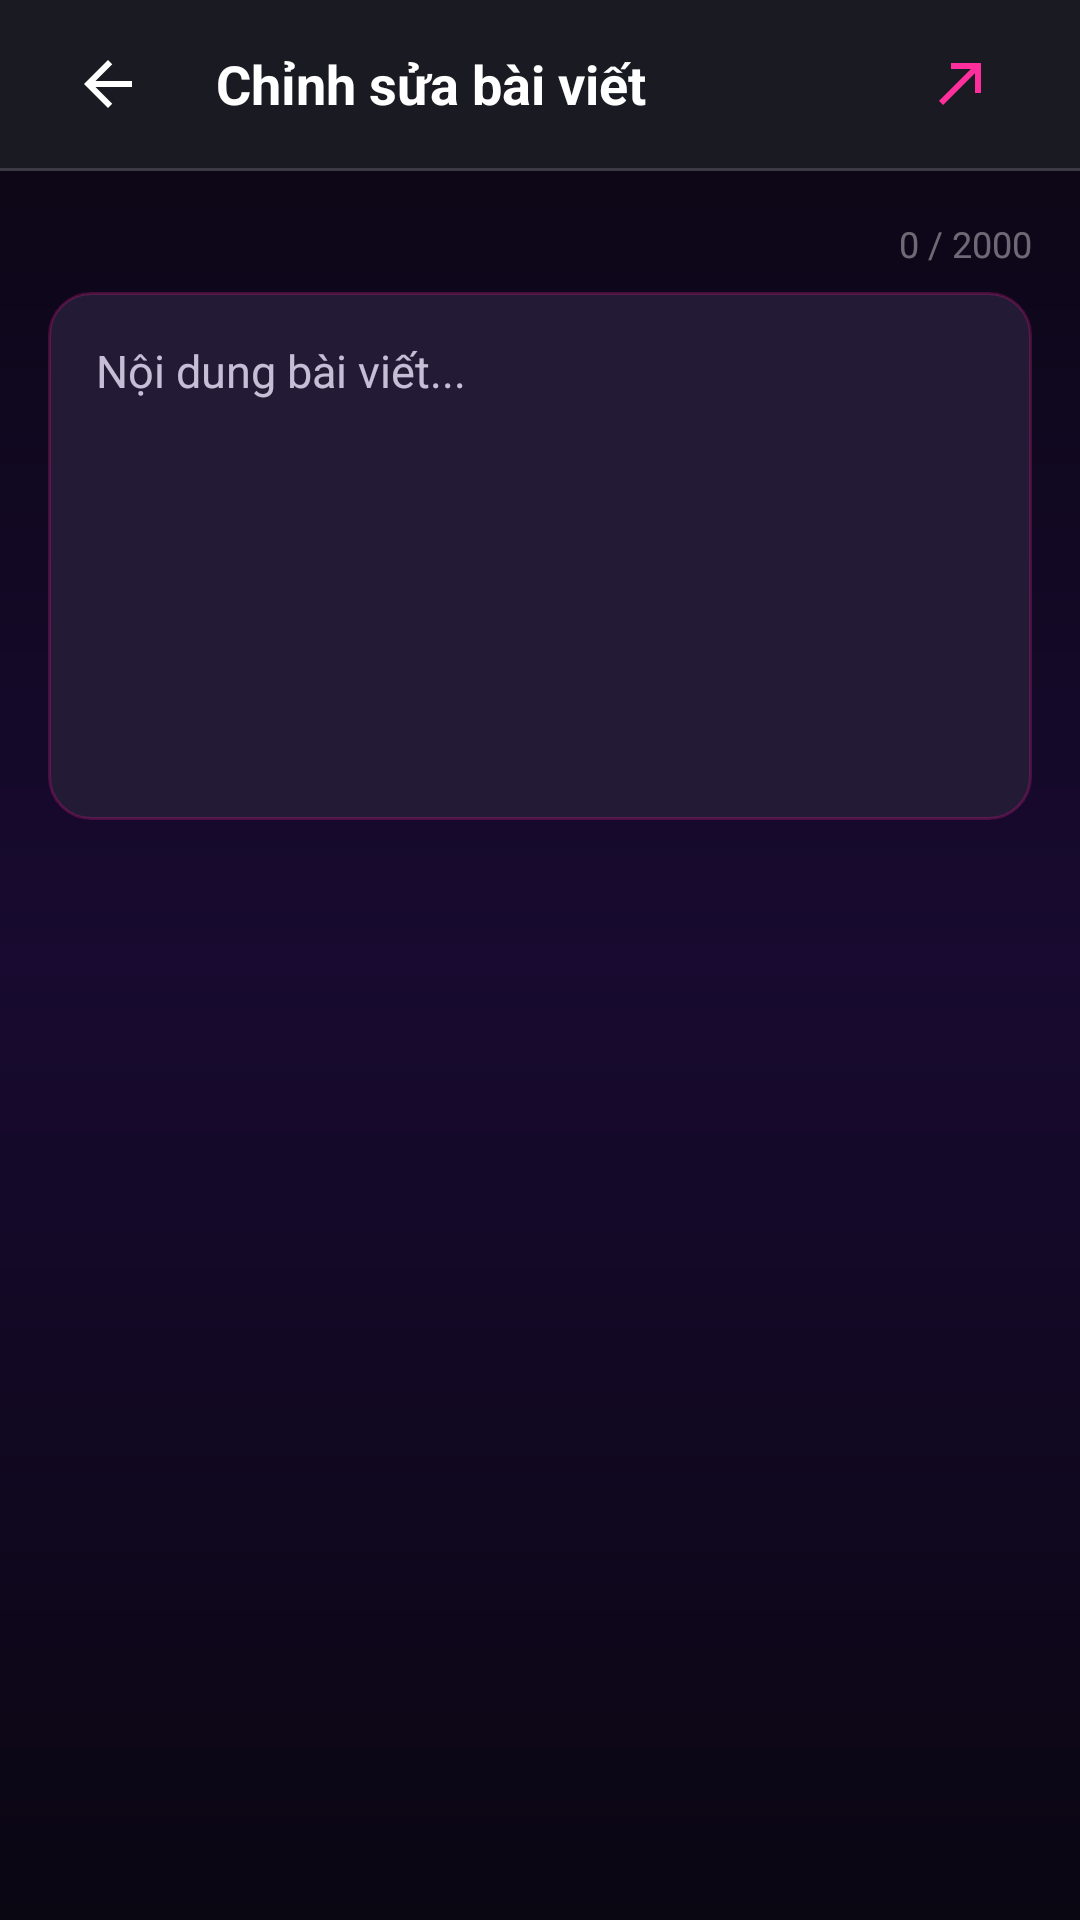

Named icons in this screenshot (1080×1920) and their centers, [x,y]:
Quay lại: [108,84]
